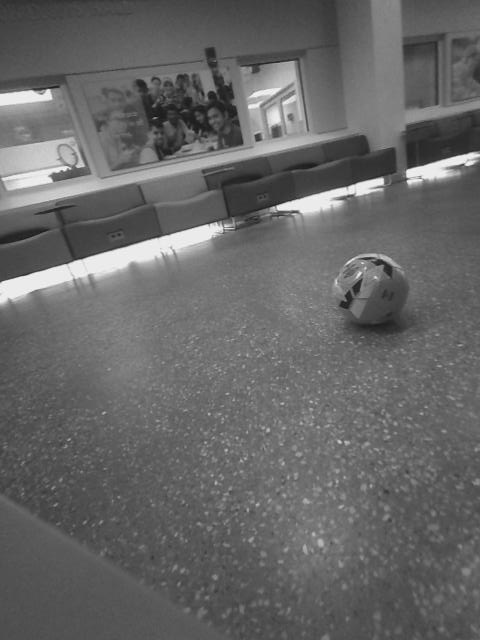ball: (326, 249, 415, 329)
